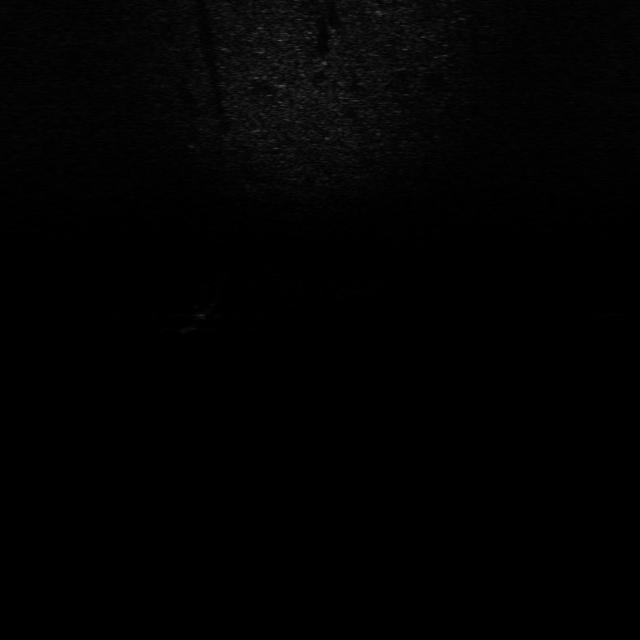human body: (167, 289, 227, 335)
